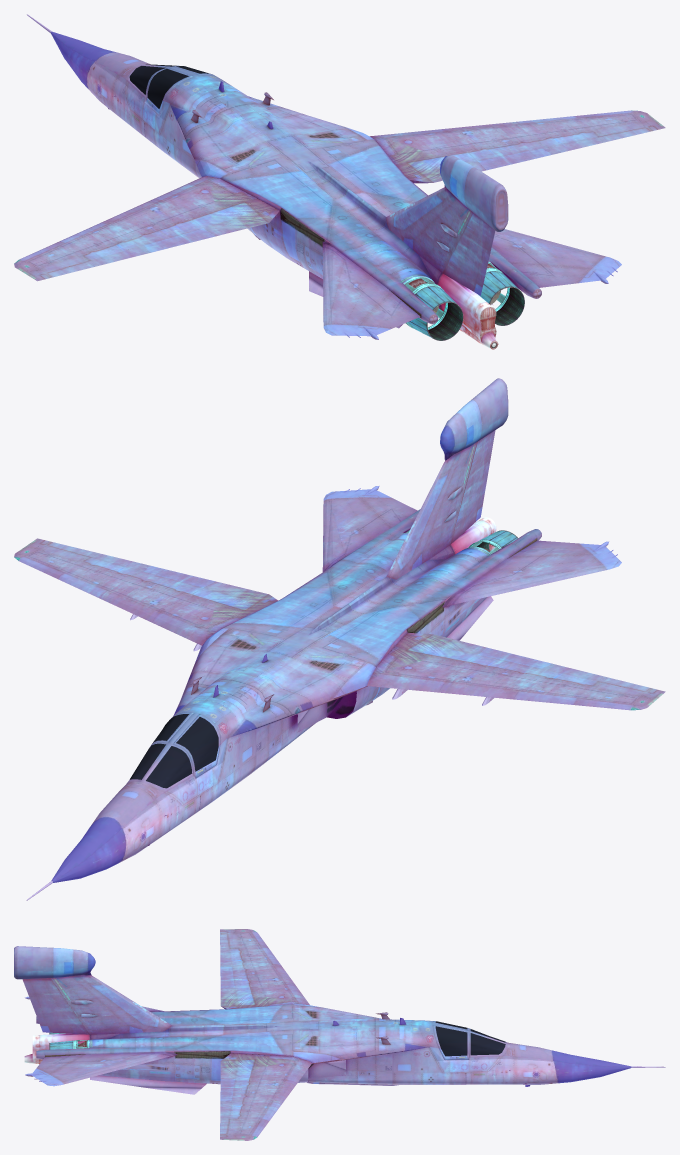
The picture shows the model from 3 angles, top to bottom: view 1: azimuth 30°, elevation 25°; view 2: azimuth 150°, elevation 25°; view 3: azimuth 270°, elevation 25°; orthographic projection. The views are drawn at different scales.
Visible parts, largest first — view 1: EF-111_LOD0_default, EF-111_WingL01_default, EF-111_WingR01_default, EF-111_ElevatorL01_default, EF-111_ElevatorR01_default, EF-111_RudderL01_default, EF-111_EngineL01_default, EF-111_EngineR01_default, EF-111_Glass_Canopy02_default, EF-111_BrakeL03_default, EF-111_FlapL02_default, EF-111_FlapL03_default (+4 smaller); view 2: EF-111_LOD0_default, EF-111_WingL01_default, EF-111_WingR01_default, EF-111_ElevatorL01_default, EF-111_ElevatorR01_default, EF-111_Glass_Canopy02_default, EF-111_RudderL01_default, EF-111_VoletL04_default, EF-111_VoletR04_default, EF-111_VoletL03_default; view 3: EF-111_LOD0_default, EF-111_WingR01_default, EF-111_WingL01_default, EF-111_ElevatorR01_default, EF-111_RudderL01_default, EF-111_Glass_Canopy02_default, EF-111_VoletR05_default, EF-111_EngineR01_default, EF-111_VoletR04_default.
Boxes of the visible parts, x1,y1,x2,y2 form: EF-111_LOD0_default: [27, 14, 541, 349]; EF-111_WingL01_default: [14, 177, 279, 281]; EF-111_WingR01_default: [374, 110, 665, 183]; EF-111_ElevatorL01_default: [322, 244, 420, 339]; EF-111_ElevatorR01_default: [492, 229, 621, 287]; EF-111_RudderL01_default: [442, 213, 495, 295]; EF-111_EngineL01_default: [403, 275, 463, 340]; EF-111_EngineR01_default: [478, 261, 524, 325]; EF-111_Glass_Canopy02_default: [129, 64, 208, 108]; EF-111_BrakeL03_default: [193, 202, 256, 227]; EF-111_FlapL02_default: [141, 228, 216, 252]; EF-111_FlapL03_default: [204, 212, 268, 235]; EF-111_LOD0_default: [26, 378, 541, 900]; EF-111_WingL01_default: [373, 633, 665, 710]; EF-111_WingR01_default: [14, 538, 277, 633]; EF-111_ElevatorL01_default: [447, 540, 621, 605]; EF-111_ElevatorR01_default: [322, 486, 417, 571]; EF-111_Glass_Canopy02_default: [130, 714, 218, 788]; EF-111_RudderL01_default: [450, 430, 495, 544]; EF-111_VoletL04_default: [367, 672, 444, 692]; EF-111_VoletR04_default: [152, 612, 213, 645]; EF-111_VoletL03_default: [438, 681, 518, 699]; EF-111_LOD0_default: [14, 946, 665, 1094]; EF-111_WingR01_default: [220, 1053, 298, 1140]; EF-111_WingL01_default: [220, 929, 298, 1009]; EF-111_ElevatorR01_default: [25, 1052, 173, 1086]; EF-111_RudderL01_default: [22, 978, 89, 1034]; EF-111_Glass_Canopy02_default: [435, 1021, 505, 1056]; EF-111_VoletR05_default: [293, 1052, 340, 1063]; EF-111_EngineR01_default: [49, 1039, 89, 1049]; EF-111_VoletR04_default: [286, 1058, 311, 1082].
Size of the model in its own units: 19.24 by 5.97 by 25.04.
Materials: 4 (4 with a texture image).
